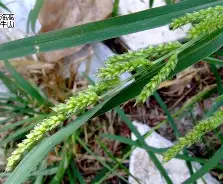weed: (11, 38, 185, 152)
